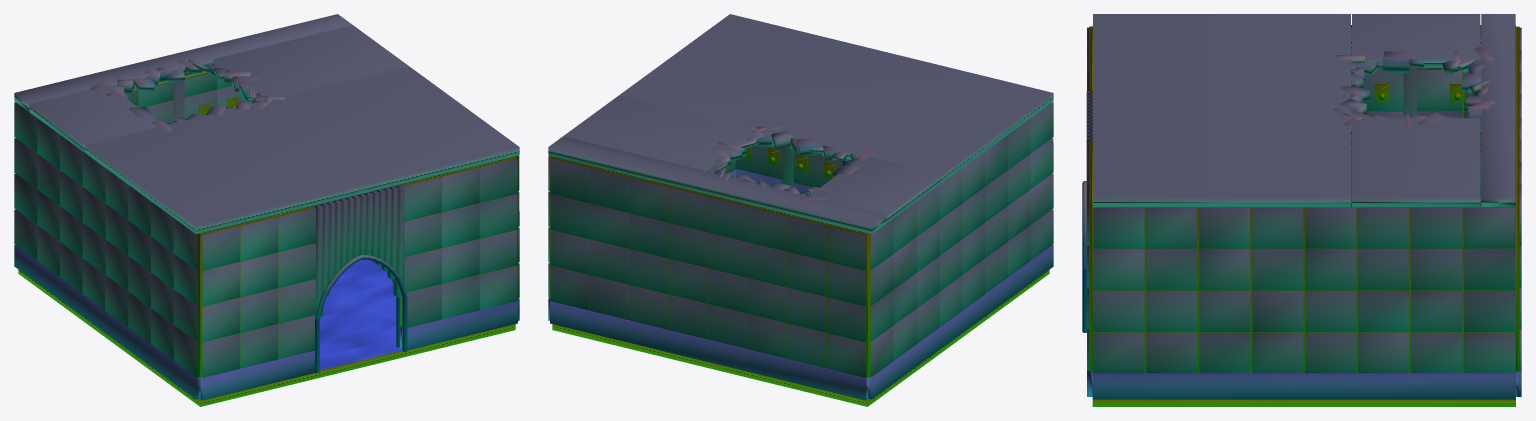
File: lowlight_hall.glb
3 renders of one model, left to right at view 1: azimuth 30°, elevation 25°; view 2: azimuth 150°, elevation 25°; view 3: azimuth 270°, elevation 25°, orthographic. The views are drawn at different scales.
Parts seen in each view (by area): view 1: lowlight_hall; view 2: lowlight_hall; view 3: lowlight_hall.
Boxes of the visible parts, x1,y1,x2,y2 form: lowlight_hall: [14, 14, 519, 406]; lowlight_hall: [548, 14, 1053, 406]; lowlight_hall: [1082, 14, 1521, 406].
Size of what is drawn, in the model's own units: 18.47 by 10.05 by 18.66.
